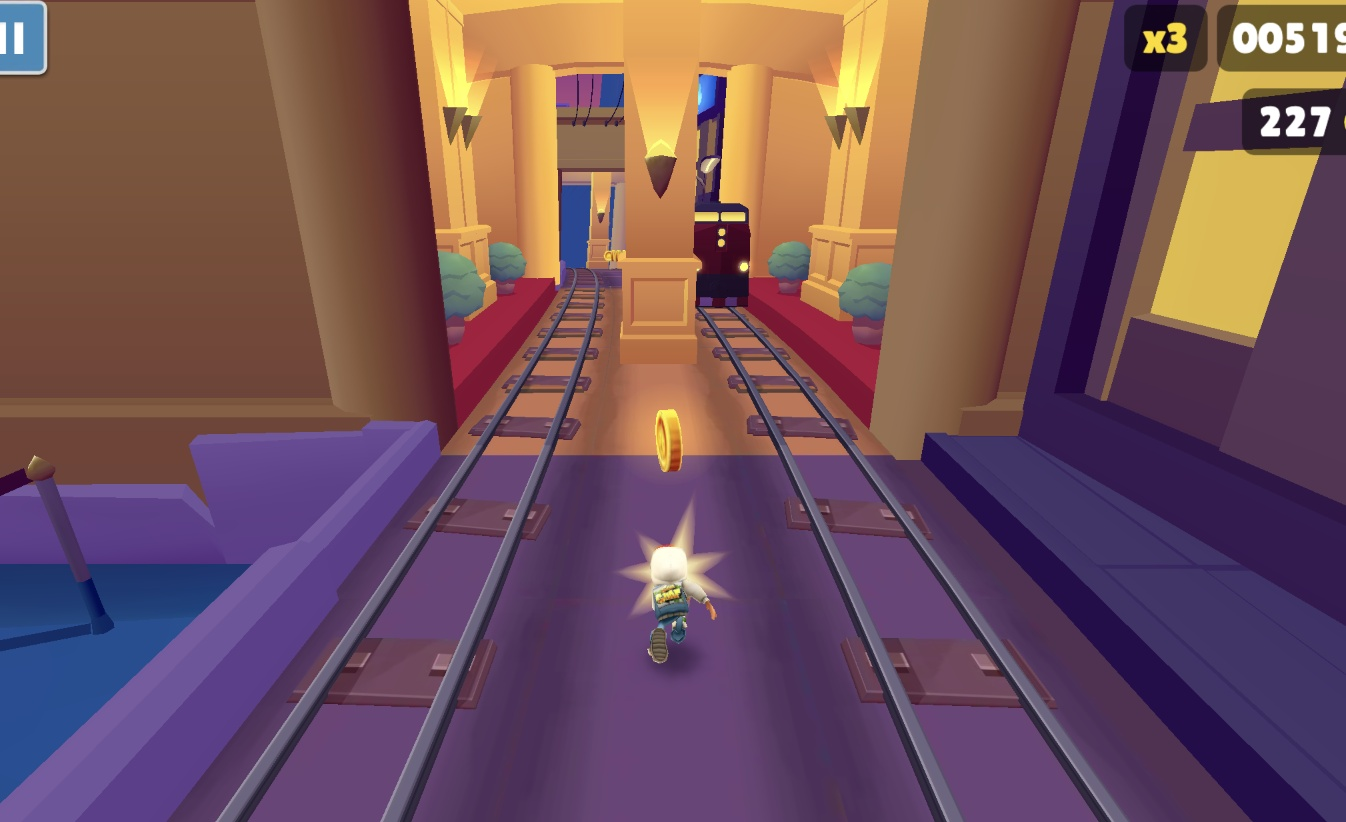pillar: (620, 0, 700, 350), (586, 172, 614, 268)
train: (696, 204, 752, 298)
